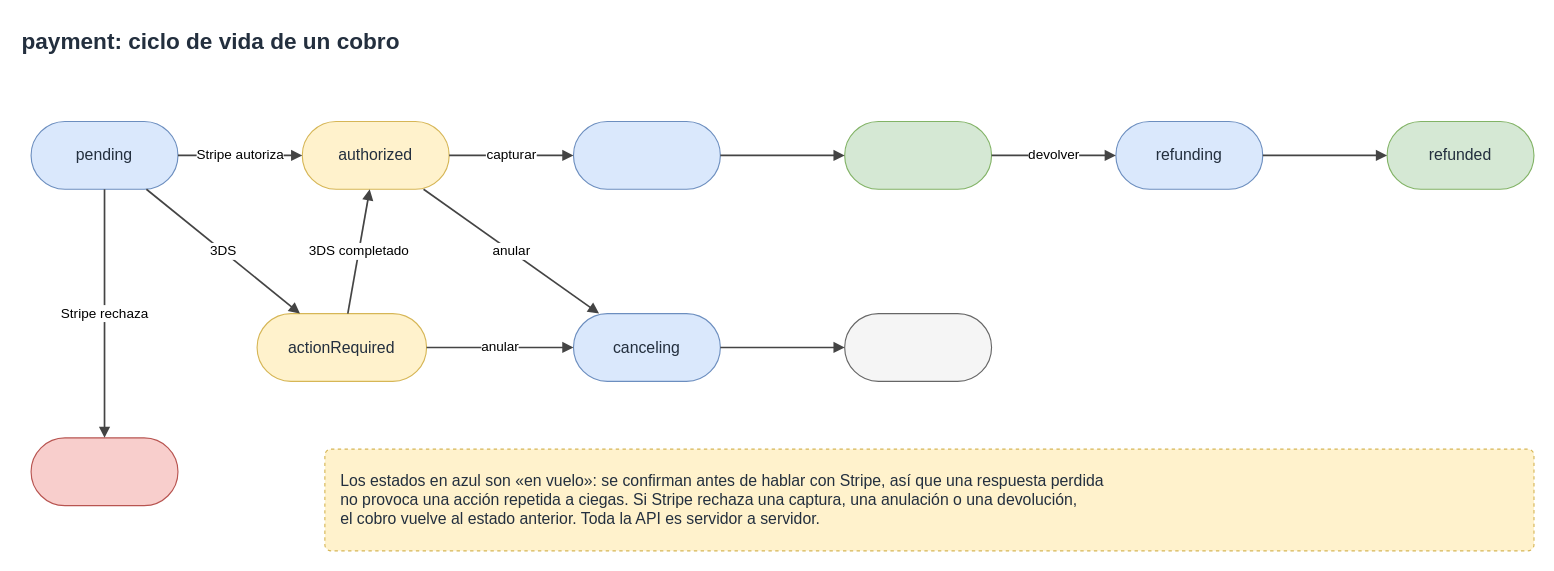
Image size: 1554x571. Some labels were removed from this diagram. Here are the shapes that lost their labels. From the top down, the box of each, then its label:
(572, 120, 720, 189): capturing
(844, 120, 992, 189): captured
(844, 312, 992, 381): canceled
(30, 437, 178, 506): failed
